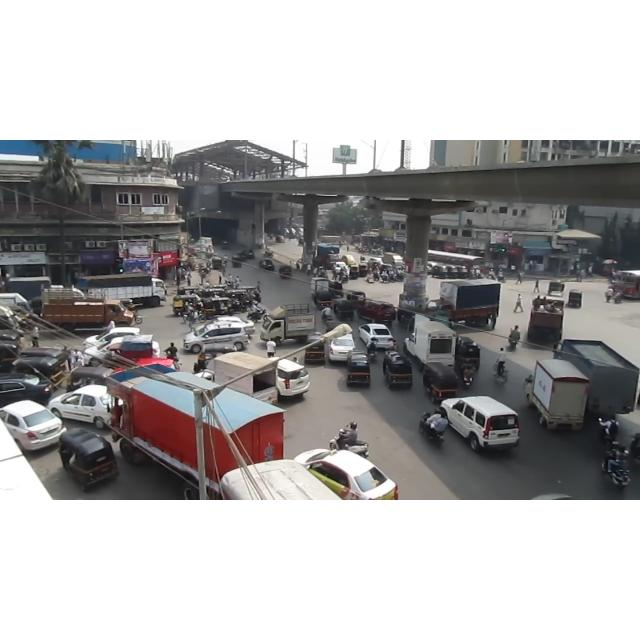auto: (61, 431, 118, 485), (381, 350, 417, 390), (348, 351, 372, 393), (458, 337, 479, 375), (333, 300, 355, 320), (570, 289, 585, 311), (279, 264, 293, 280)
car: (297, 443, 403, 501), (442, 391, 526, 457), (3, 403, 73, 452), (184, 316, 248, 355), (360, 322, 397, 353)
truck: (99, 362, 287, 496), (554, 335, 638, 420), (528, 351, 588, 439), (416, 276, 502, 331), (37, 286, 139, 331), (82, 273, 172, 310), (401, 322, 456, 376), (258, 306, 318, 346), (529, 297, 567, 340), (309, 273, 331, 303)
